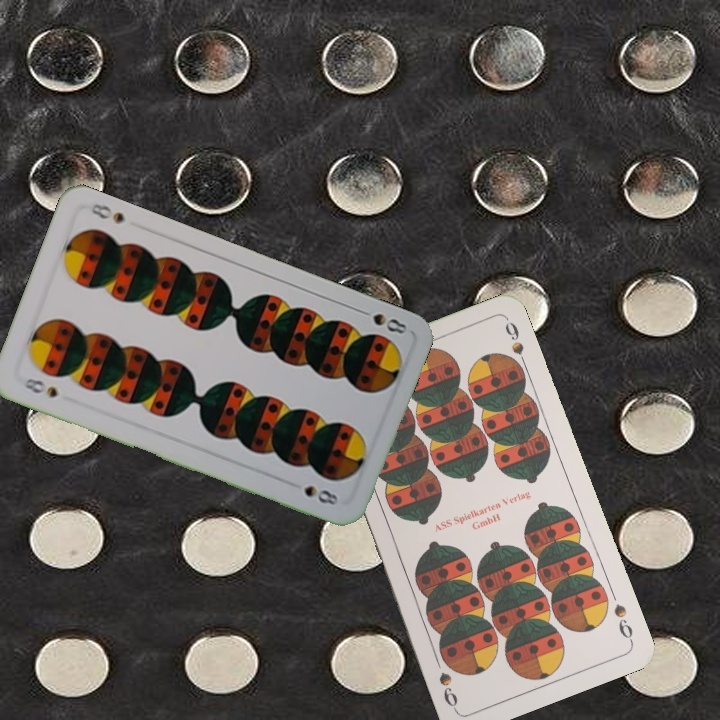S8: (353, 305, 410, 337), (18, 374, 60, 401)
S9: (609, 599, 636, 645)
